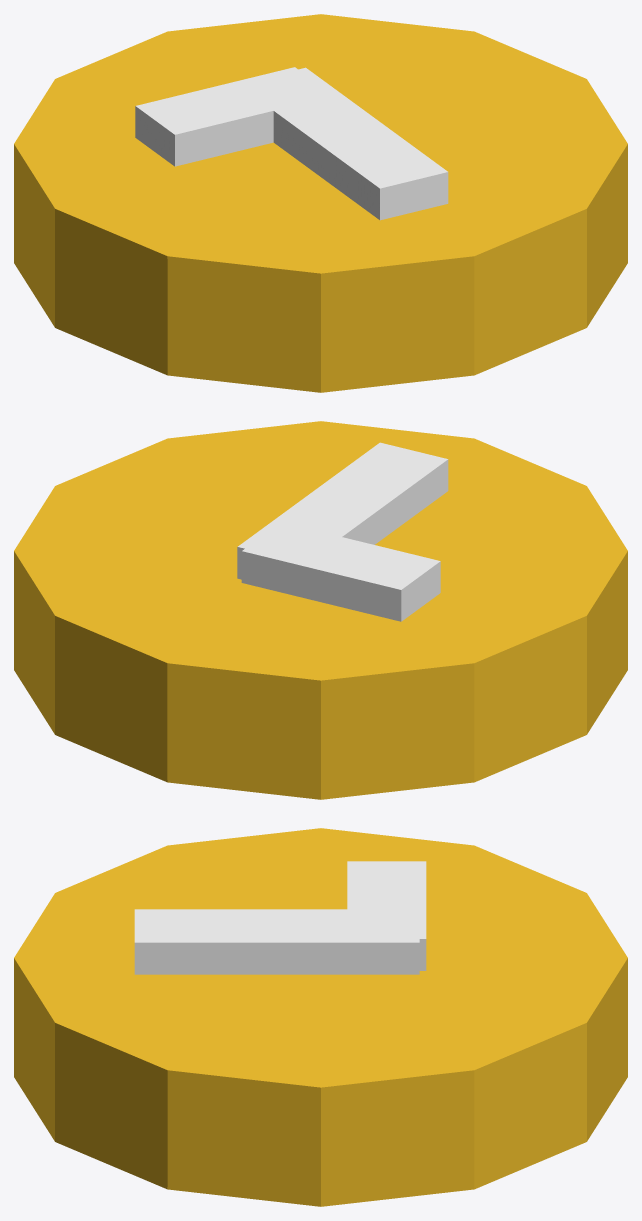
The model's file is Link_Port_Input_Selectable_v001.fbx.
3 renders of one model, top to bottom at view 1: azimuth 30°, elevation 25°; view 2: azimuth 150°, elevation 25°; view 3: azimuth 270°, elevation 25°, orthographic.
Visible parts, largest first — view 1: PortDisc, PortDirection, PortDirection.001; view 2: PortDisc, PortDirection, PortDirection.001; view 3: PortDisc, PortDirection, PortDirection.001.
Boxes of the visible parts, box(x1,y1,x2,y2) form: PortDisc: box(14, 14, 627, 392); PortDirection: box(259, 67, 448, 220); PortDirection.001: box(135, 67, 327, 166); PortDisc: box(14, 421, 627, 799); PortDirection: box(237, 442, 448, 579); PortDirection.001: box(241, 523, 440, 621); PortDisc: box(14, 828, 627, 1206); PortDirection: box(134, 909, 419, 974); PortDirection.001: box(347, 861, 426, 970).
Size of the model in its own units: 14 by 3.8 by 14.
